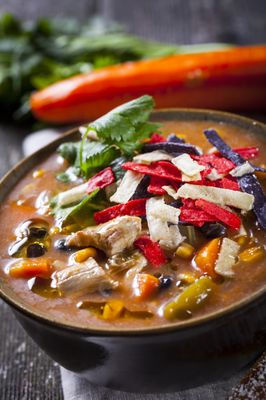pizza: (30, 46, 265, 125)
sandwich: (1, 101, 266, 337)
